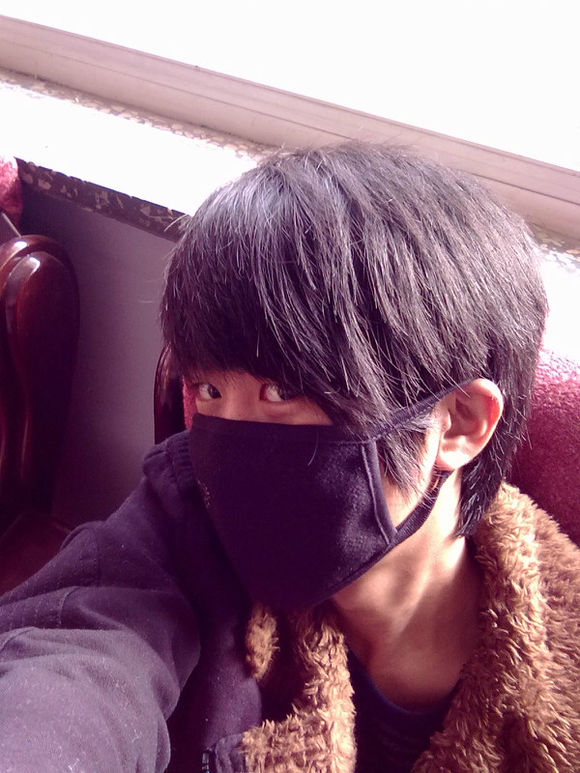face_mask: (188, 360, 392, 611)
